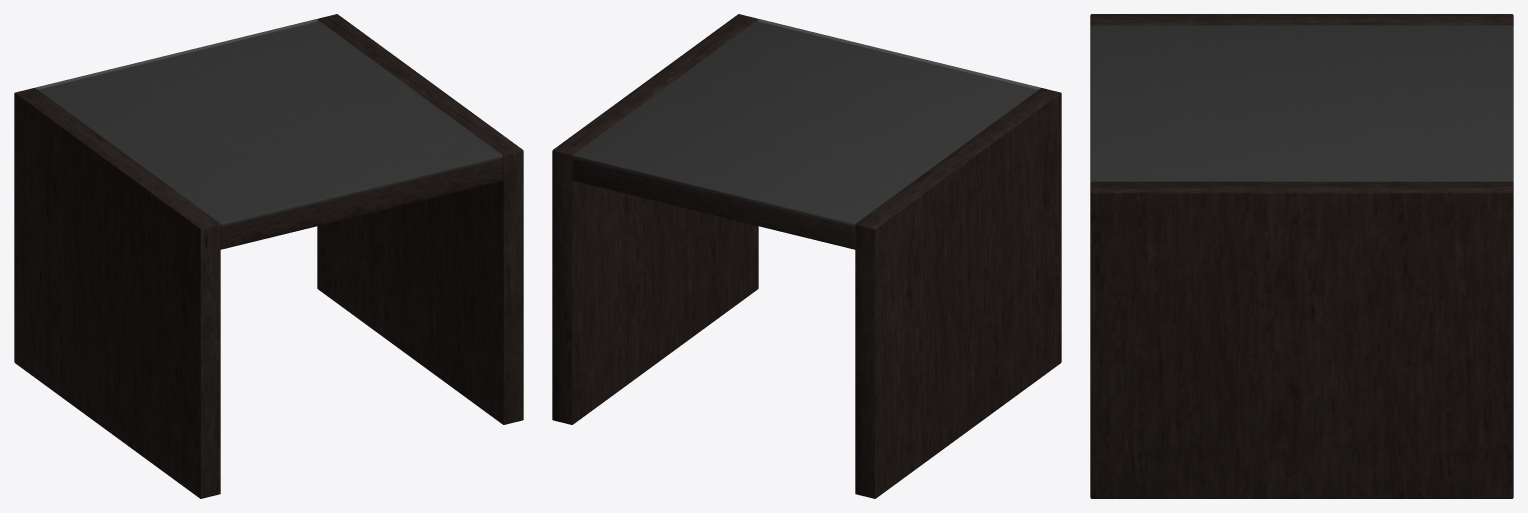
3 renders of one model, left to right at view 1: azimuth 30°, elevation 25°; view 2: azimuth 150°, elevation 25°; view 3: azimuth 270°, elevation 25°, orthographic. The views are drawn at different scales.
Parts seen in each view (by area): view 1: Wood, Glass; view 2: Wood, Glass; view 3: Wood, Glass.
Boxes of the visible parts, bbox=[...] form: Wood: bbox=[14, 14, 523, 498]; Glass: bbox=[35, 19, 503, 226]; Wood: bbox=[552, 14, 1061, 498]; Glass: bbox=[572, 19, 1040, 226]; Wood: bbox=[1090, 14, 1513, 498]; Glass: bbox=[1090, 25, 1513, 182].
Size of the model in its own units: 0.6 by 0.48 by 0.6.
Materials: 2 (1 with a texture image).
